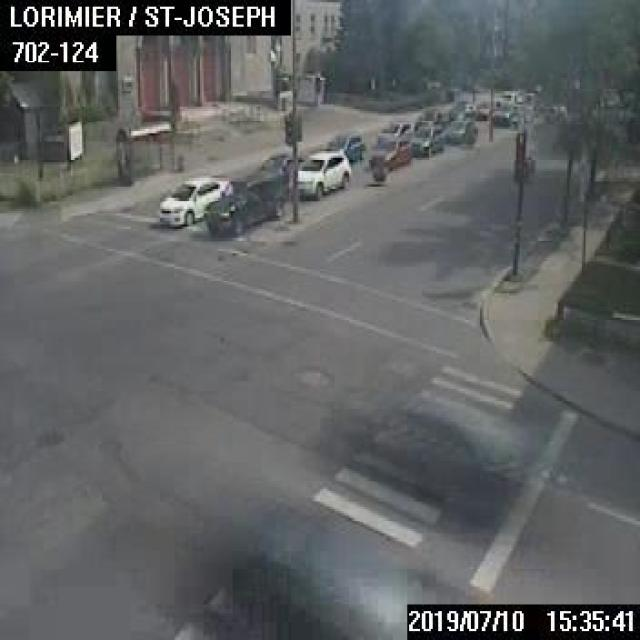vehicle: (204, 168, 282, 236), (157, 174, 230, 226), (293, 149, 349, 194), (366, 136, 411, 168), (260, 152, 300, 182), (326, 131, 363, 161), (409, 124, 443, 155), (443, 118, 477, 144), (377, 120, 412, 141), (448, 100, 474, 120), (412, 107, 440, 125), (490, 102, 515, 122), (495, 89, 516, 106), (474, 101, 490, 118)
